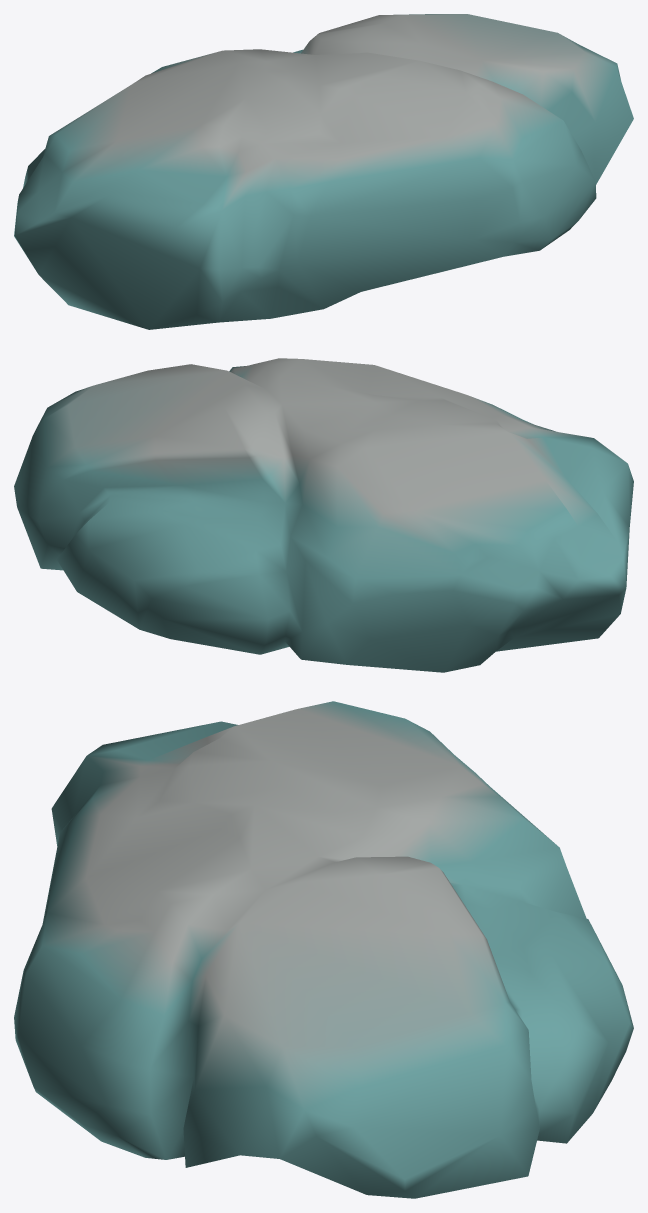
3 renders of one model, top to bottom at view 1: azimuth 30°, elevation 25°; view 2: azimuth 150°, elevation 25°; view 3: azimuth 270°, elevation 25°, orthographic. The views are drawn at different scales.
Visible parts, largest first — view 1: G:\FFXIV-MapTools\exports\y6t1\bg\ex5\02_ykt_y6\twn\y6t1\bgp; view 2: G:\FFXIV-MapTools\exports\y6t1\bg\ex5\02_ykt_y6\twn\y6t1\bgp; view 3: G:\FFXIV-MapTools\exports\y6t1\bg\ex5\02_ykt_y6\twn\y6t1\bgp.
Boxes of the visible parts, box(x1,y1,x2,y2) form: G:\FFXIV-MapTools\exports\y6t1\bg\ex5\02_ykt_y6\twn\y6t1\bgp: box(14, 14, 633, 329); G:\FFXIV-MapTools\exports\y6t1\bg\ex5\02_ykt_y6\twn\y6t1\bgp: box(14, 358, 633, 672); G:\FFXIV-MapTools\exports\y6t1\bg\ex5\02_ykt_y6\twn\y6t1\bgp: box(14, 701, 633, 1198).
Bounding box in the file's own units: 32.16 × 9.09 × 21.01.
